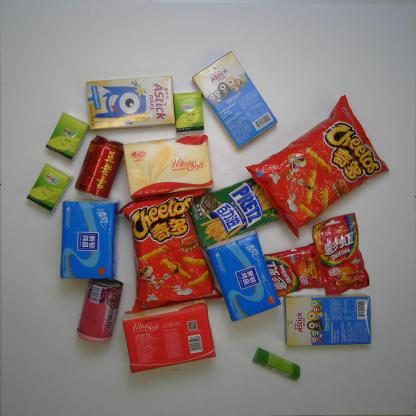Candy: (306, 216, 389, 295), (264, 240, 324, 298)
Canned Food: (75, 278, 130, 350)
Dessert: (190, 47, 284, 151), (285, 289, 390, 363), (193, 177, 288, 240), (84, 74, 178, 128)
Drink: (77, 129, 127, 207)
Puffed Food: (252, 91, 393, 234), (118, 196, 222, 308)
Stationery: (253, 344, 323, 396)
Tissue: (203, 232, 284, 328), (122, 301, 224, 377), (123, 135, 221, 198), (56, 195, 121, 283), (24, 160, 76, 213), (44, 109, 89, 166), (176, 88, 207, 138)
